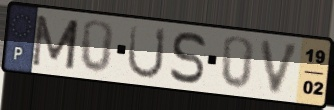0: (79, 18, 116, 76), (220, 34, 257, 92)
M: (28, 13, 82, 72)
S: (167, 30, 209, 86)
U: (124, 23, 168, 81)
V: (258, 38, 304, 97)
